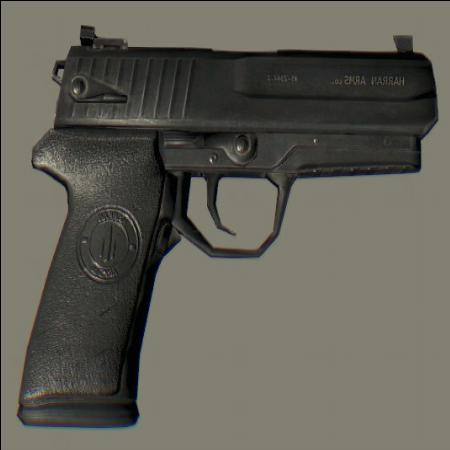Pistol: (16, 20, 433, 430)
